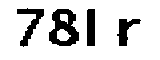7: (10, 5, 43, 52)
8: (45, 7, 81, 52)
I: (83, 6, 100, 52)
r: (115, 16, 143, 48)
